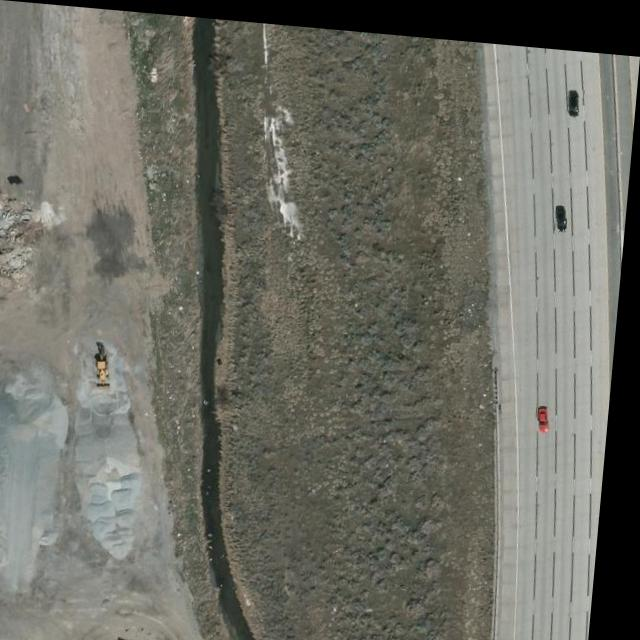vehicle: (566, 78, 585, 109), (556, 194, 571, 221), (542, 397, 558, 422)
